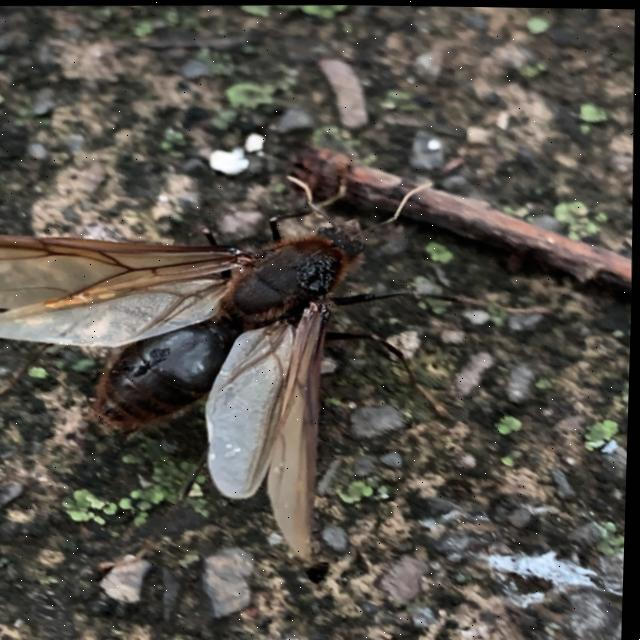Alive-Male-Alate: (0, 164, 560, 569)
